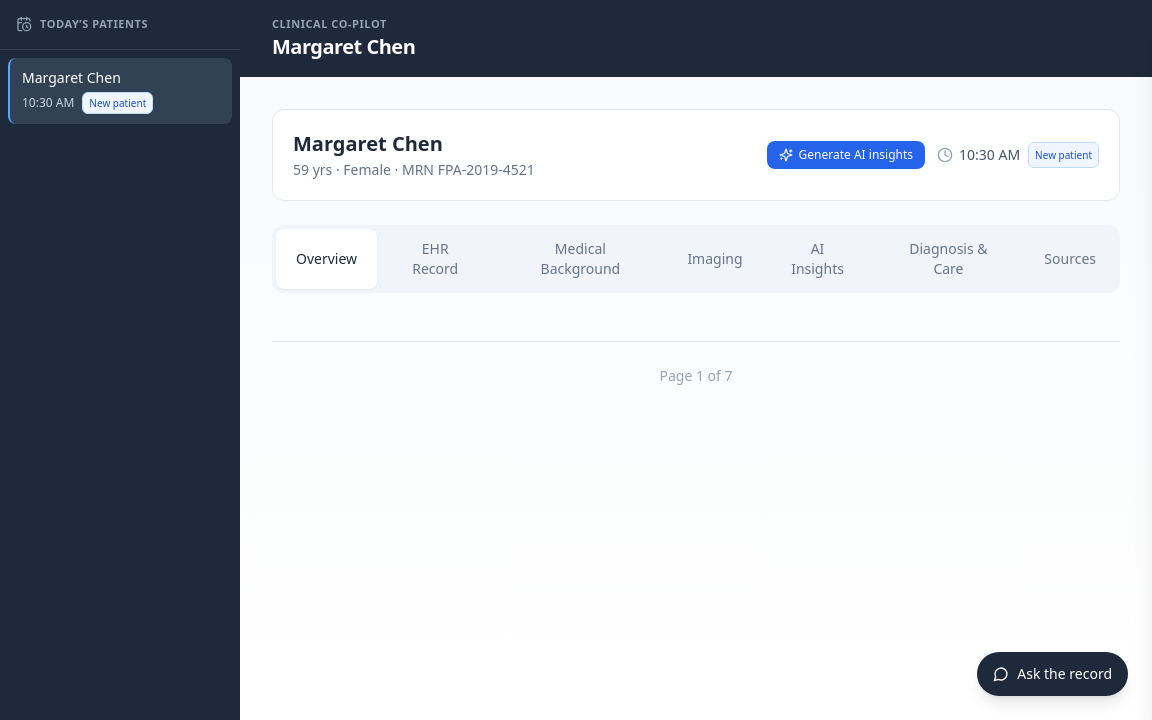
Test case: EHR Record tab › renders the sync header and grouped EHR facts, excluding external-origin facts
Click the tab "EHR Record": (435, 258) [377,228,493,288]
(page scrolled)
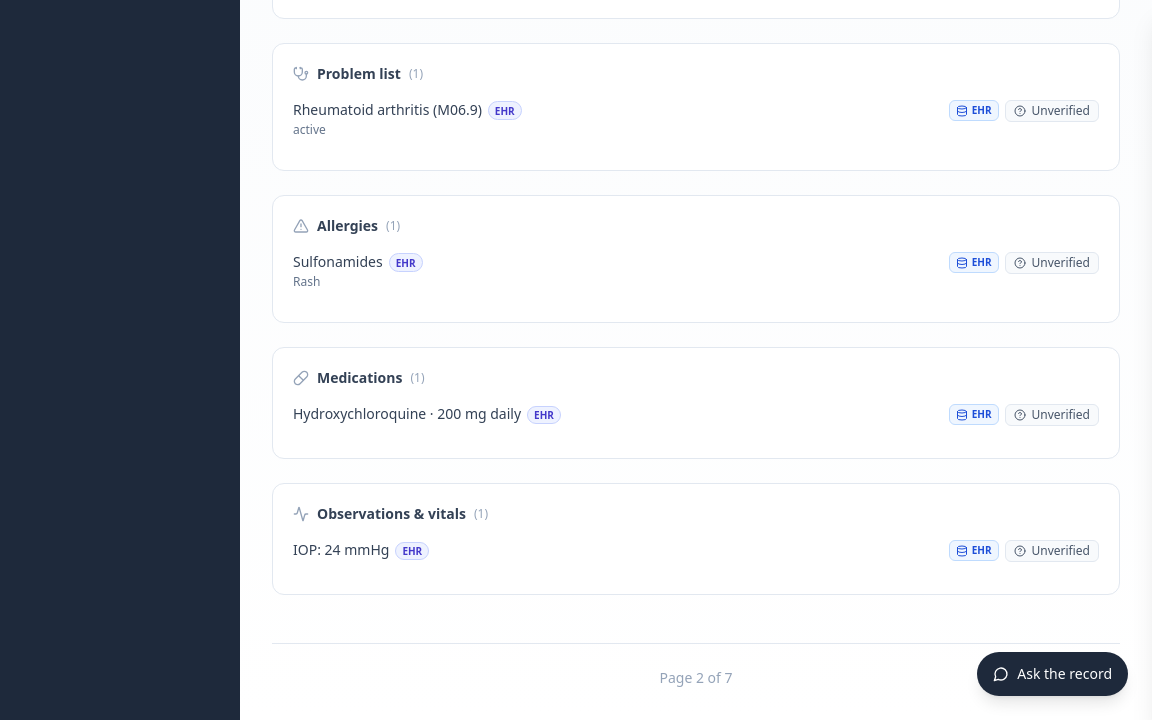
Expected: the heading "Problem list (1)" is shown, [293,64,423,82]
Expected: the text "Rheumatoid arthritis (M06.9) EHR" is shown, [293,100,522,120]
Expected: the text "Sulfonamides" is shown, [293,252,383,271]
